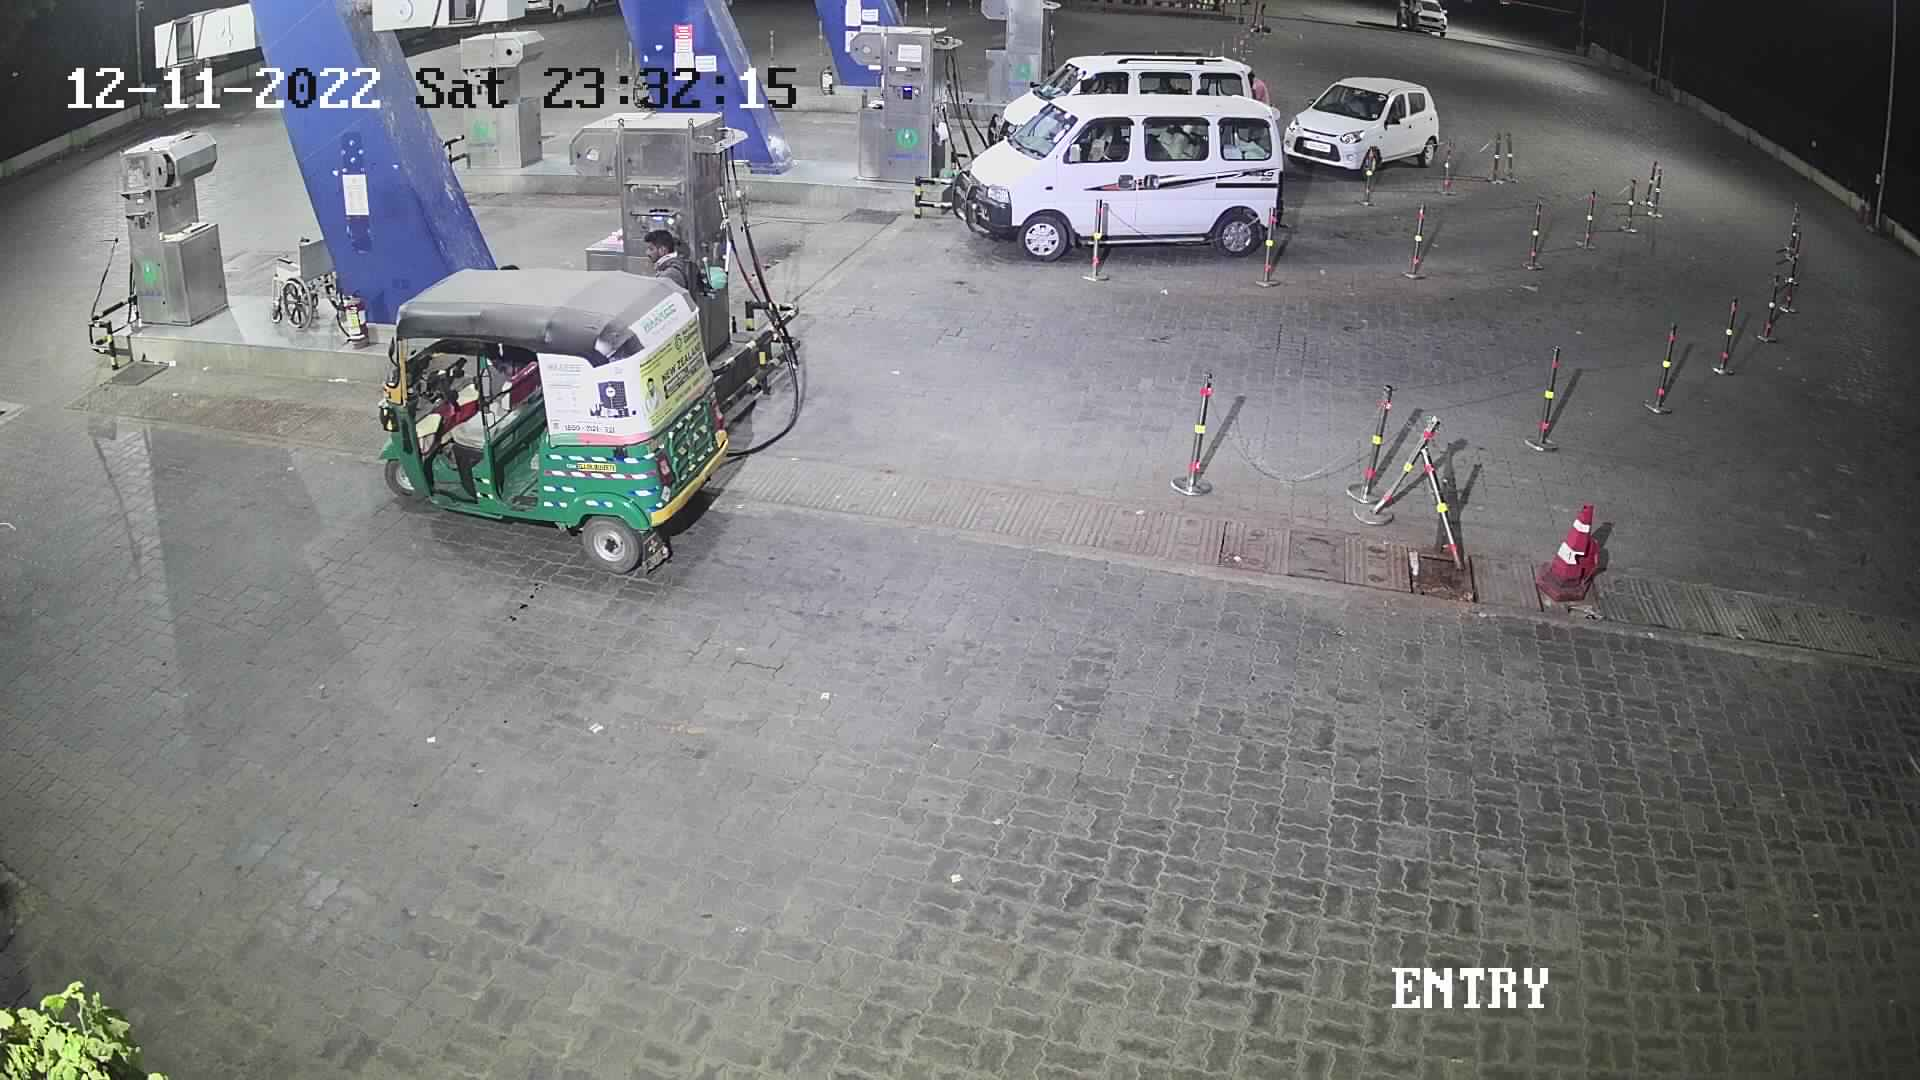Auto: (364, 258, 740, 582)
Car: (943, 86, 1292, 266), (981, 44, 1255, 152), (1278, 71, 1441, 182), (1387, 0, 1456, 44)
